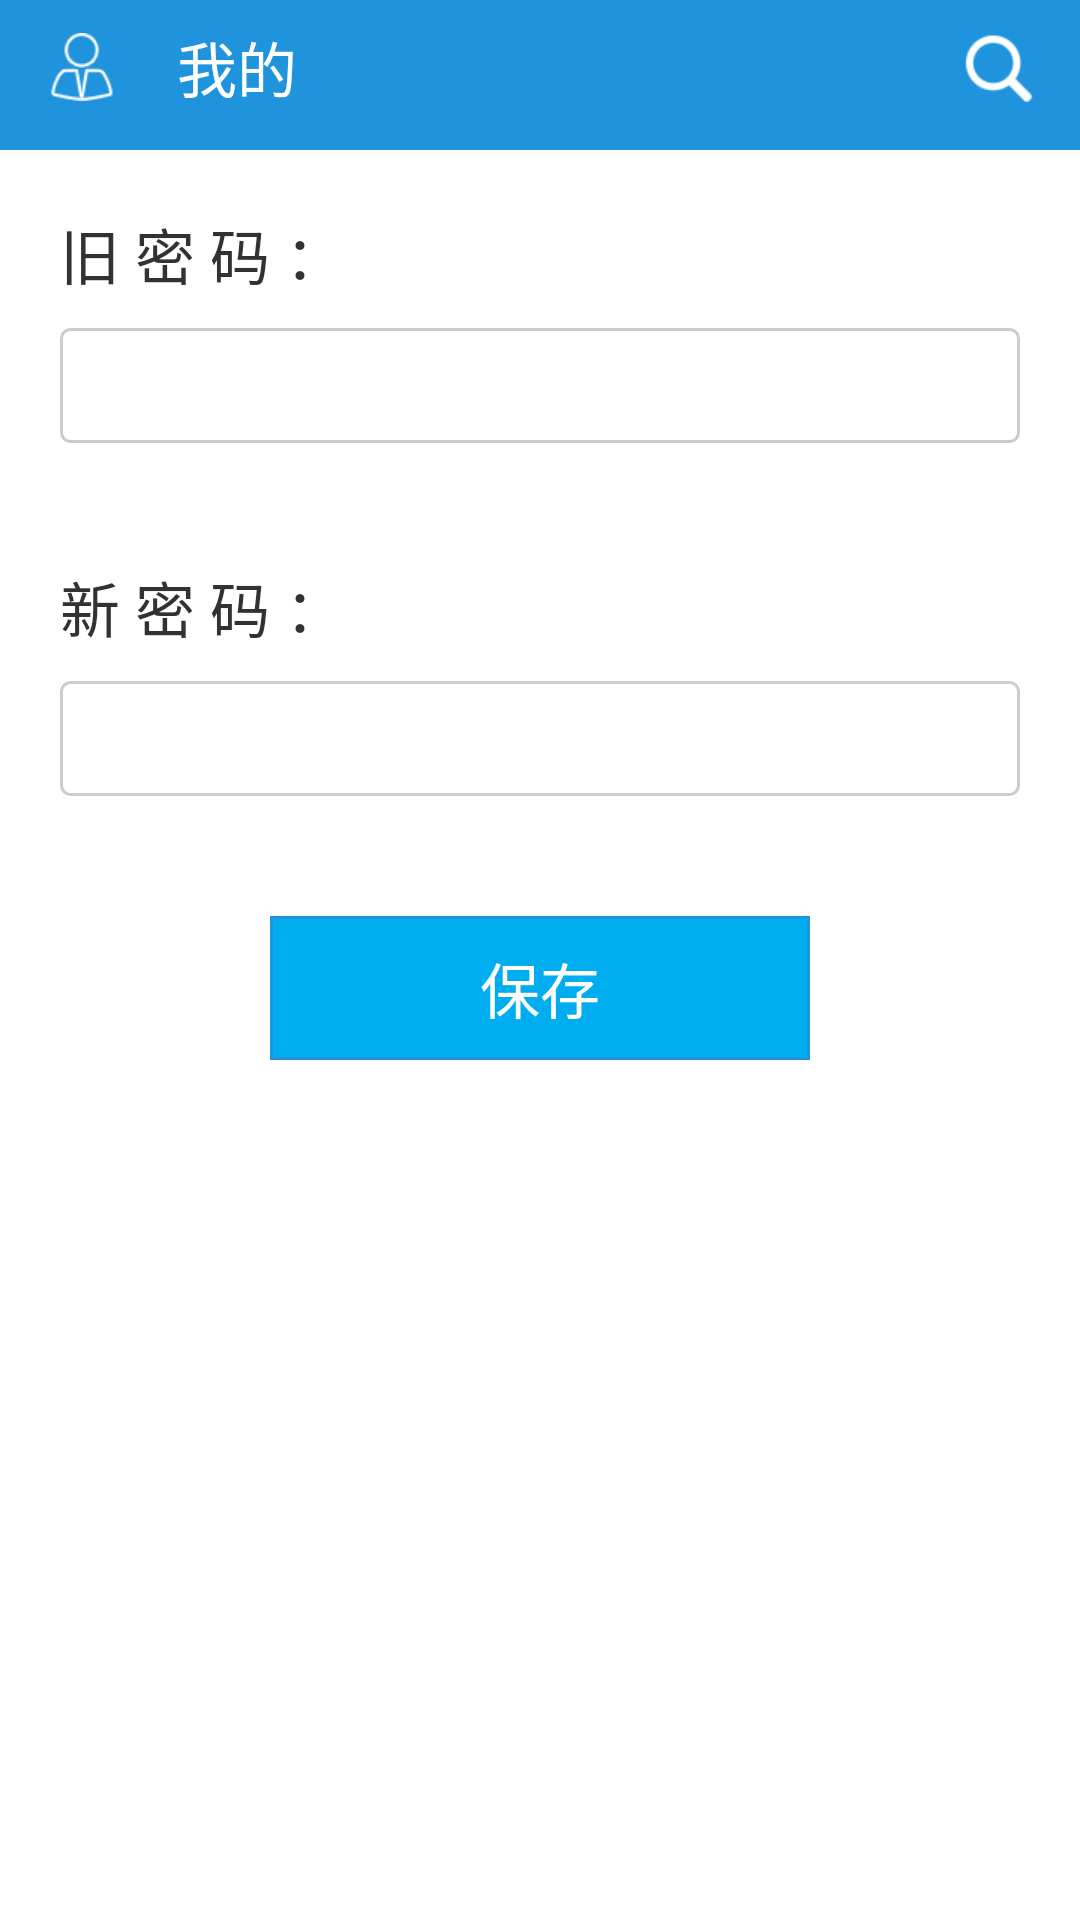

Where icons sit on this 1080w x 1920h app screen, as (x1, y1, x2, y2):
mine: (51, 33, 113, 101)
search: (965, 35, 1033, 102)
